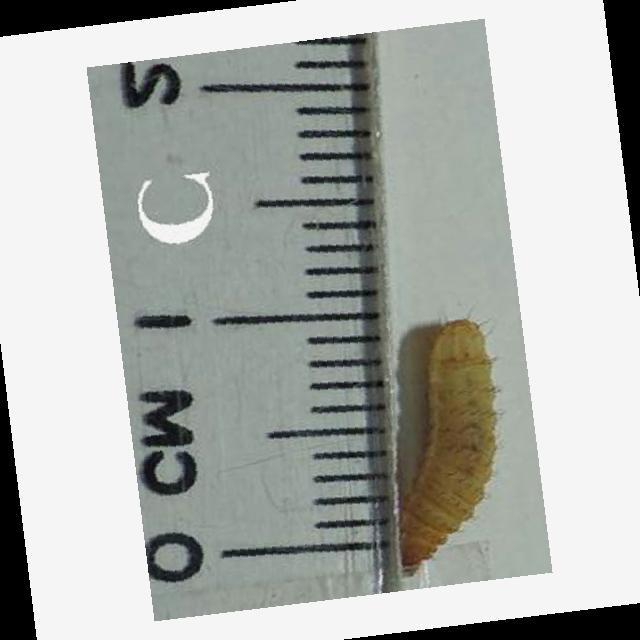Maggot: (398, 318, 500, 574)
